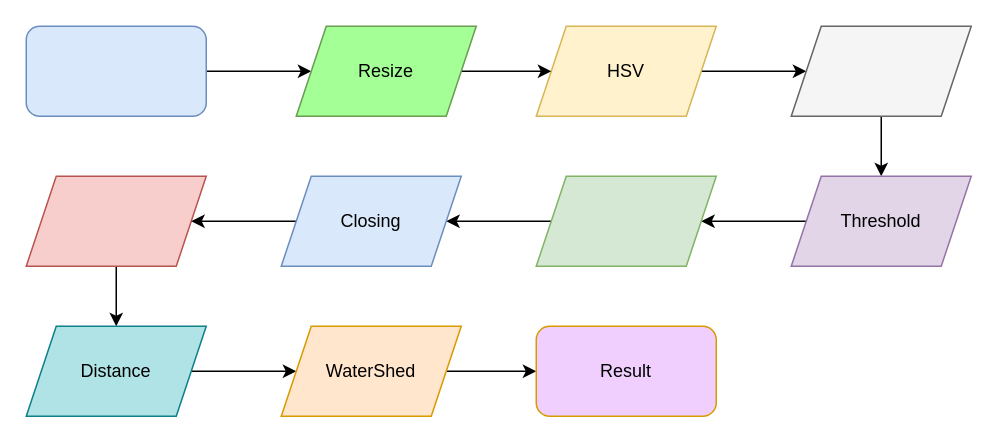
Some shapes in this 998 by 443 pixel diagram are drawn without their labels. Each missing label, with the box of its shape:
Dilating: (25, 175, 206, 266)
Gray: (790, 25, 971, 116)
Opening: (535, 175, 716, 266)
Original: (25, 25, 206, 116)
